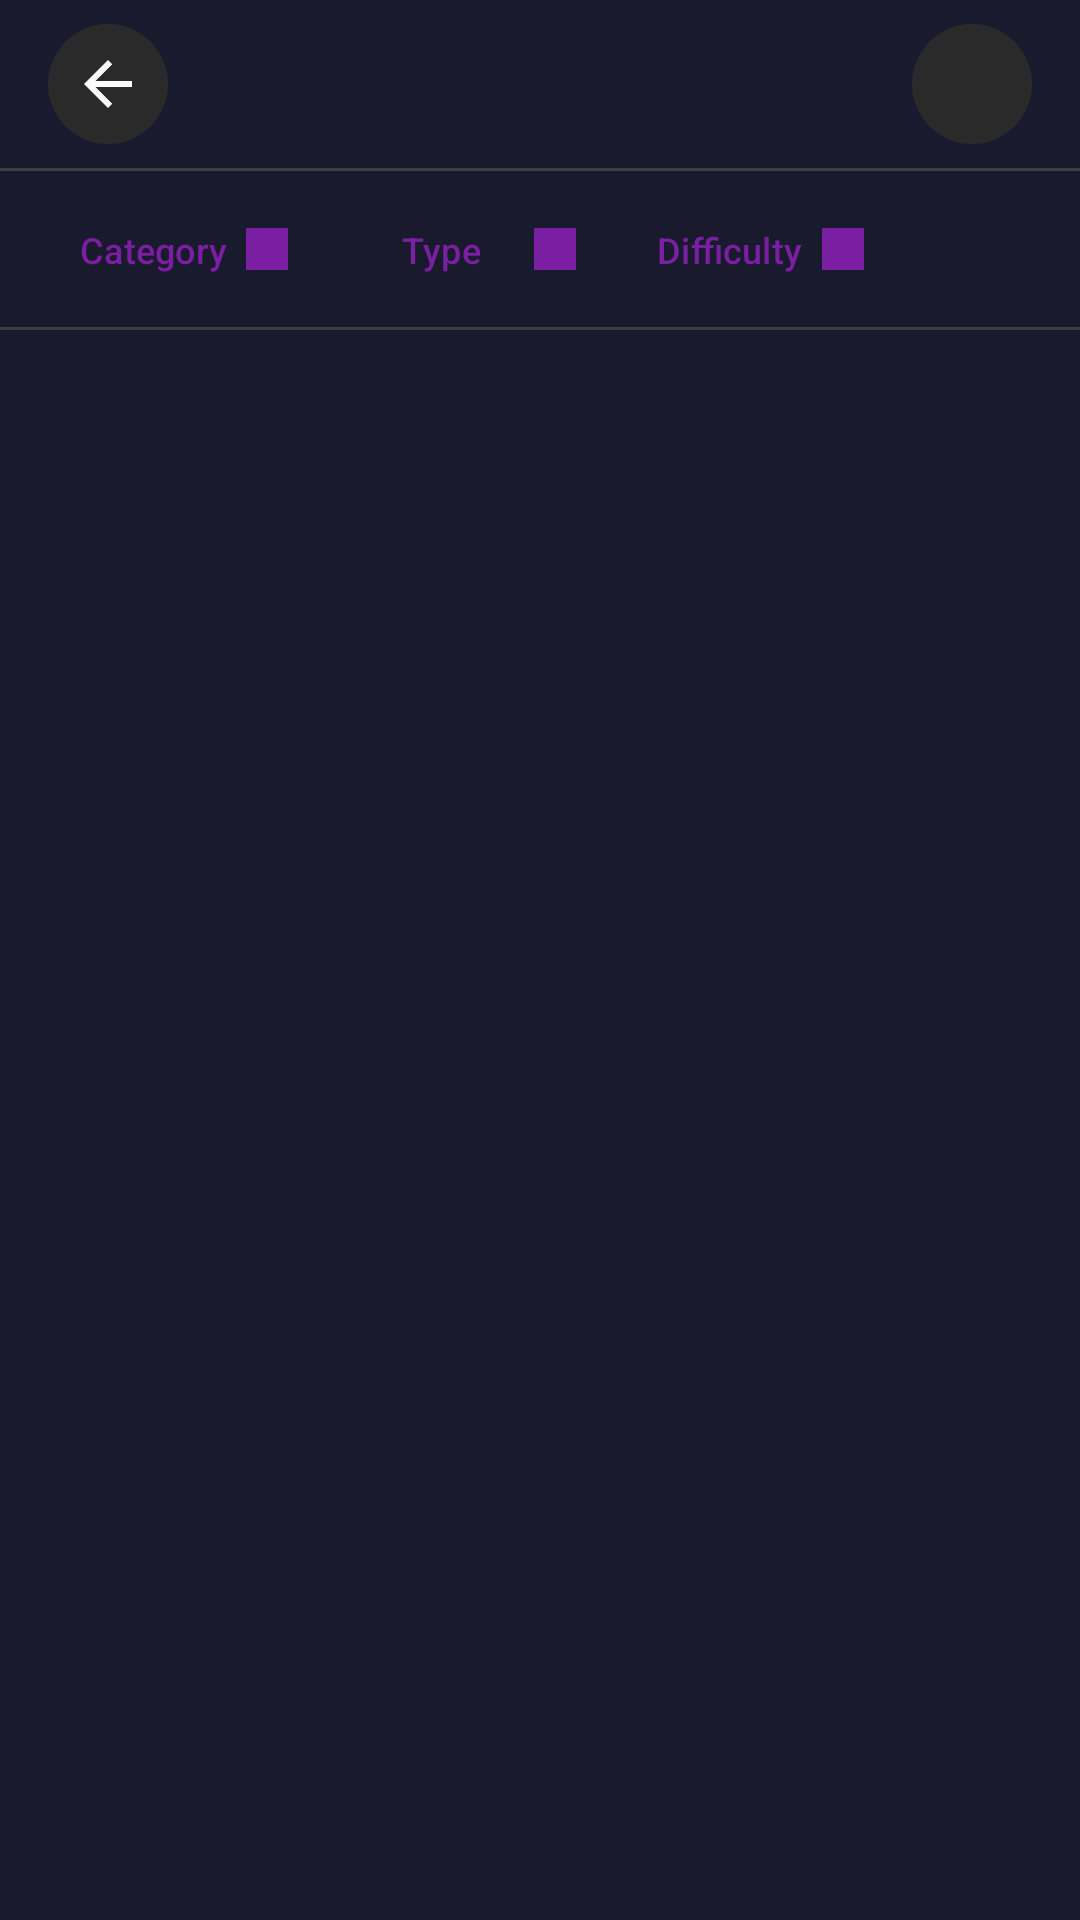

Icon bounding boxes for this 1080px x 1920px phone screenshot, format (x1,y1,x2,y2):
Back: (48,24,168,144)
